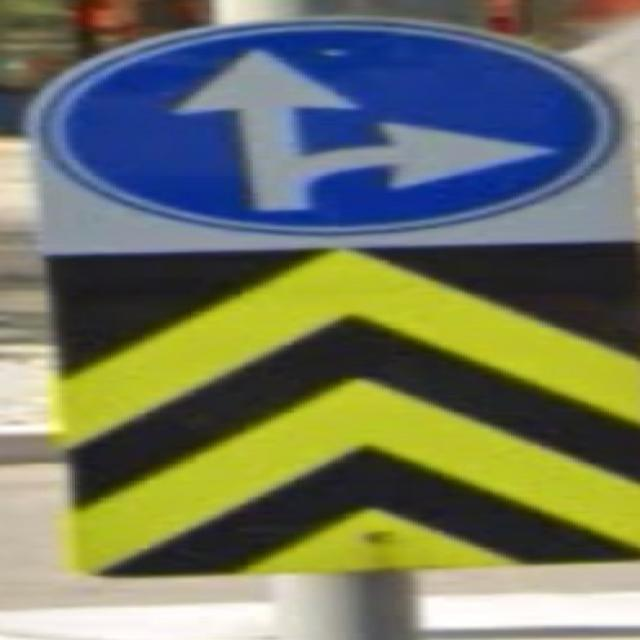Straight or Right: (41, 22, 614, 236)
